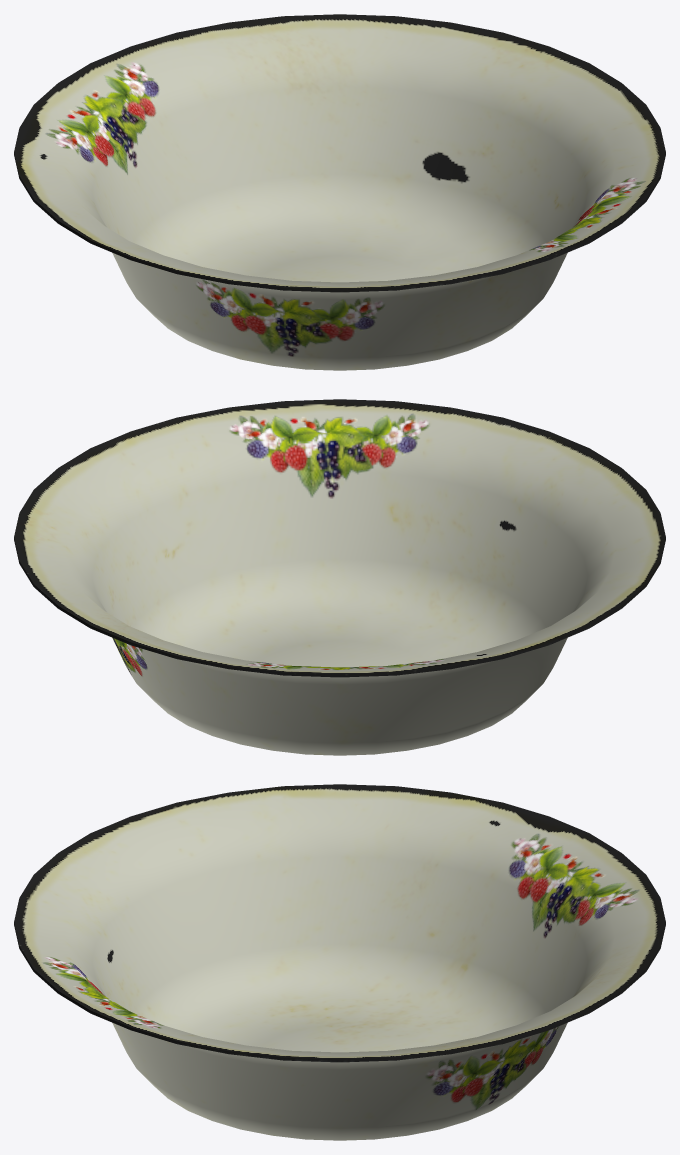
File: Bowl01.FBX
3 views of the same model, one above another, from view 1: azimuth 30°, elevation 25°; view 2: azimuth 150°, elevation 25°; view 3: azimuth 270°, elevation 25° (orthographic).
Parts seen in each view (by area): view 1: Bowl01_LOD0; view 2: Bowl01_LOD0; view 3: Bowl01_LOD0.
Part boxes in pixels (<box>): Bowl01_LOD0: <box>14,14,665,370</box>; Bowl01_LOD0: <box>14,399,665,755</box>; Bowl01_LOD0: <box>14,784,665,1140</box>.
Size of the model in its own units: 31.68 by 31.71 by 7.85.
